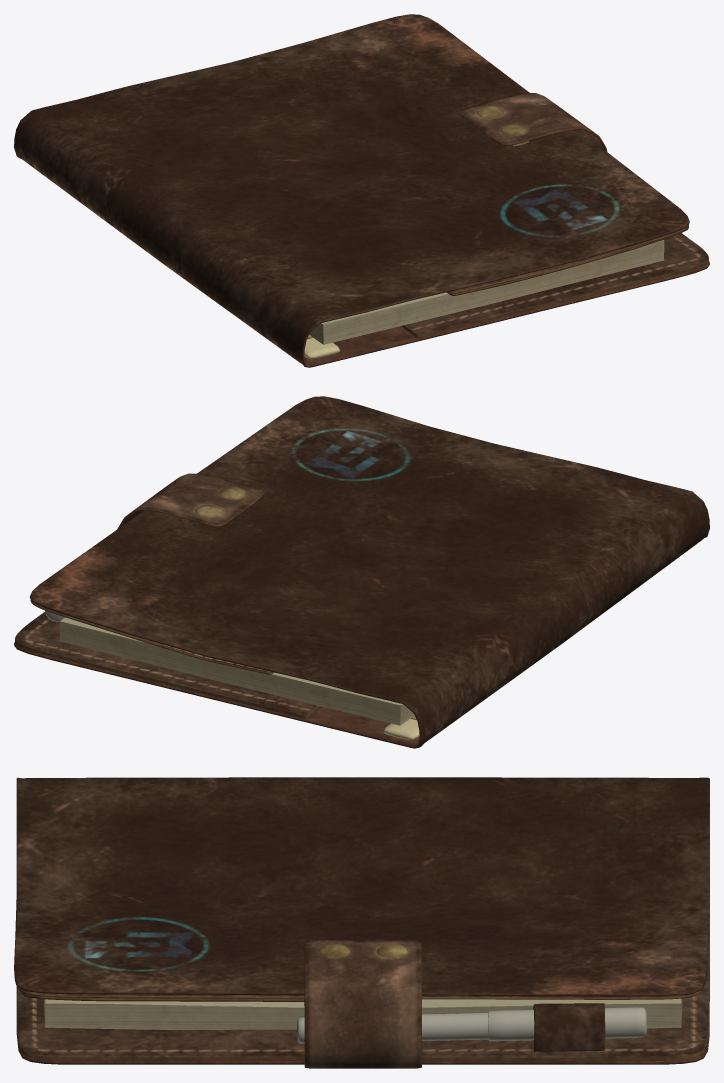
The model's file is binder_closed.fbx.
3 renders of one model, top to bottom at view 1: azimuth 30°, elevation 25°; view 2: azimuth 150°, elevation 25°; view 3: azimuth 270°, elevation 25°, orthographic. The views are drawn at different scales.
Parts seen in each view (by area): view 1: binder_closed; view 2: binder_closed; view 3: binder_closed.
Boxes of the visible parts, x1,y1,x2,y2 form: binder_closed: (14, 14, 709, 367); binder_closed: (14, 396, 709, 748); binder_closed: (14, 777, 709, 1068).
Bounding box in the file's own units: 0.1706 × 0.0253 × 0.2.
Materials: 1 (1 with a texture image).
